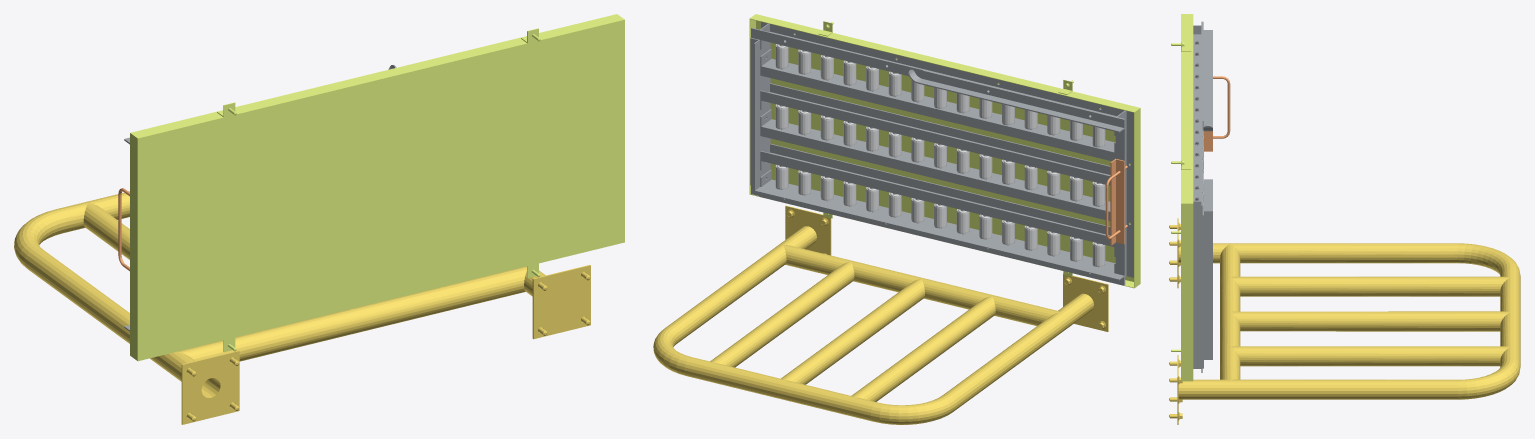
Rendered from roller-conveyor-oil-tray.glb.
The picture shows the model from 3 angles, left to right: view 1: azimuth 30°, elevation 25°; view 2: azimuth 150°, elevation 25°; view 3: azimuth 270°, elevation 25°; orthographic projection. The views are drawn at different scales.
Visible parts, largest first — view 1: tray, guard; view 2: frame, guard, tray, roller, stopper; view 3: guard, frame, tray, stopper.
Boxes of the visible parts, box(x1,y1,x2,y2) form: tray: box(130, 14, 624, 361); guard: box(14, 191, 590, 424); frame: box(750, 22, 1133, 285); guard: box(653, 205, 1108, 424); tray: box(749, 14, 1140, 288); roller: box(775, 44, 1105, 267); stopper: box(1105, 158, 1127, 245); guard: box(1169, 218, 1520, 424); frame: box(1193, 21, 1212, 372); tray: box(1171, 14, 1193, 381); stopper: box(1204, 76, 1230, 151).
Size of the model in its own units: 1.7 by 1.02 by 1.33.
